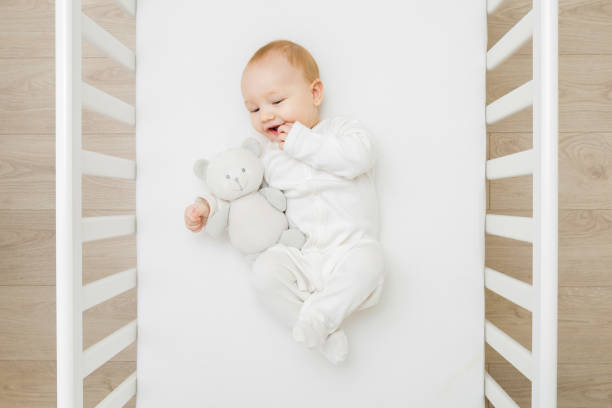baby: (241, 40, 383, 363)
crib: (56, 0, 557, 407)
